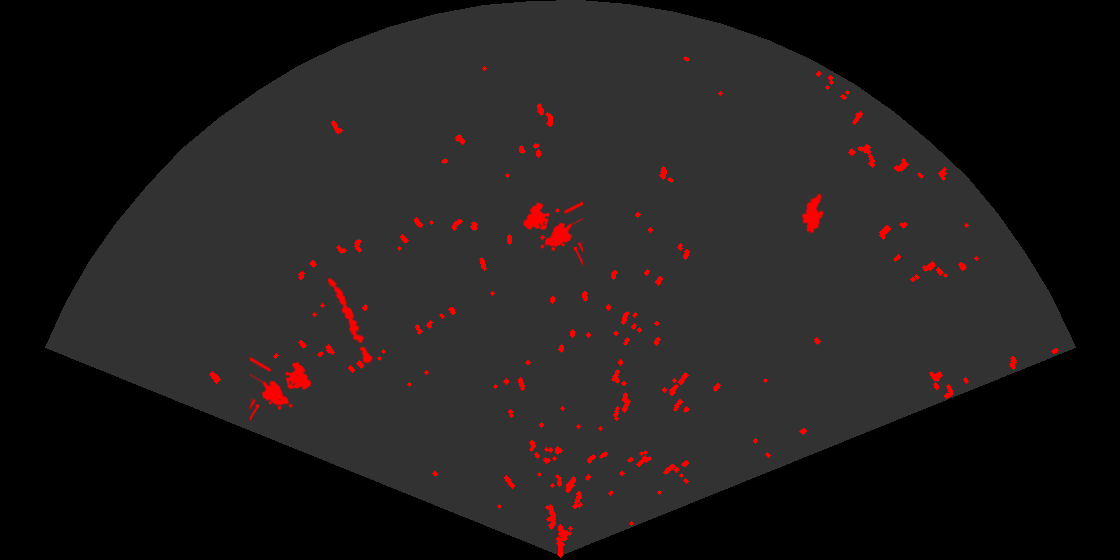AUV: (800, 192, 825, 235)
cage: (250, 355, 313, 423), (521, 200, 583, 267)
chain: (326, 276, 374, 367)
